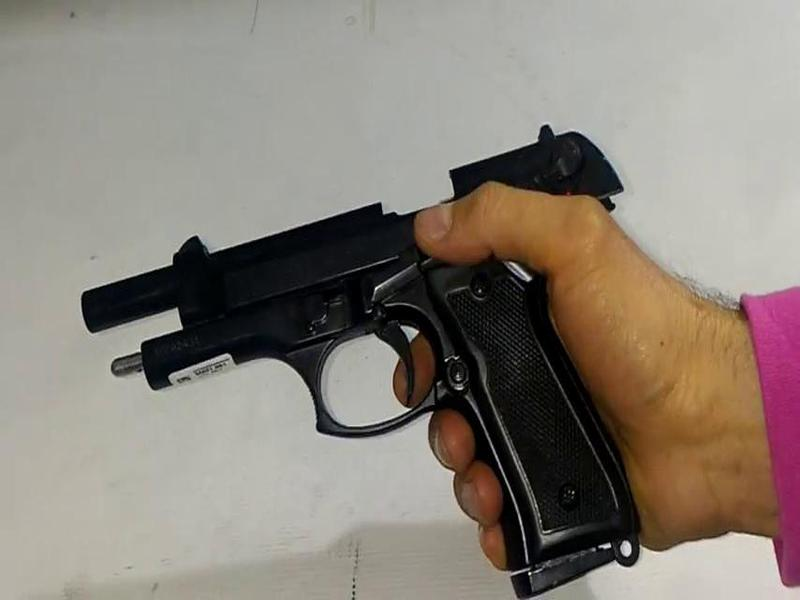Pistola: (76, 106, 678, 584)
